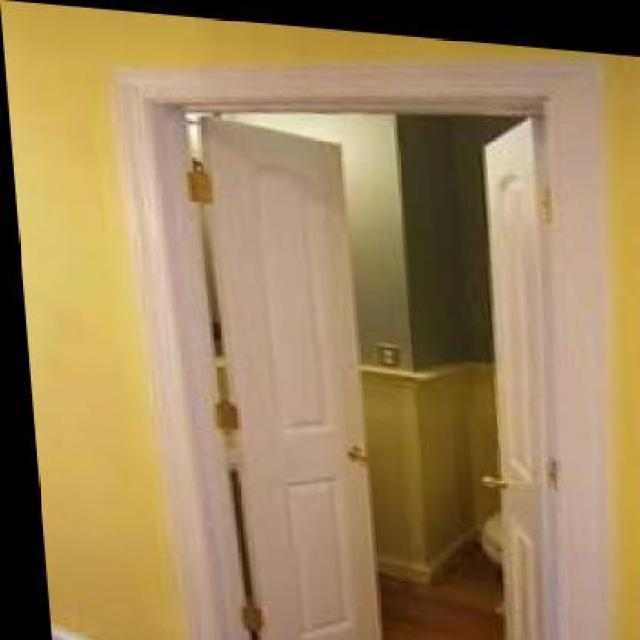door: (196, 120, 381, 640), (462, 116, 576, 640)
